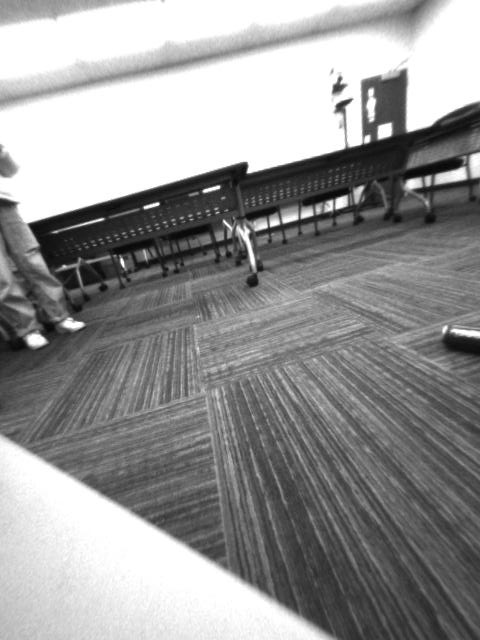can: (435, 320, 480, 351)
